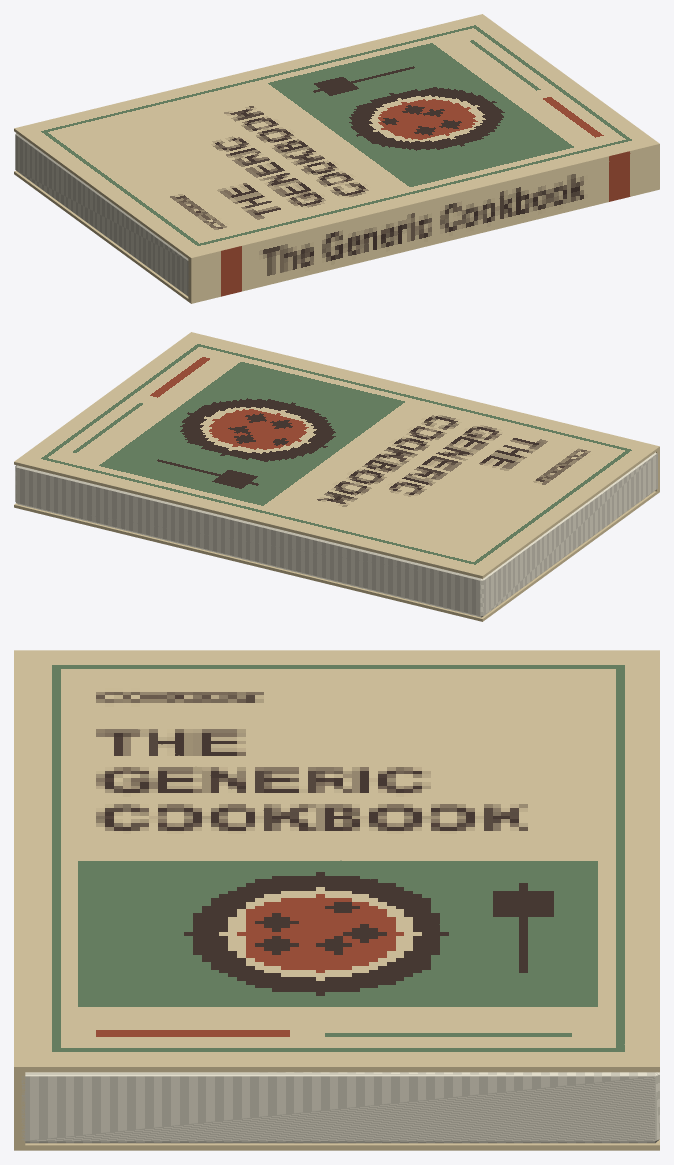
File: cookbook_useless.glb
3 renders of one model, top to bottom at view 1: azimuth 30°, elevation 25°; view 2: azimuth 150°, elevation 25°; view 3: azimuth 270°, elevation 25°, orthographic. The views are drawn at different scales.
Visible parts, largest first — view 1: block_front, block_spine, block_pages, block_back; view 2: block_front, block_pages, block_back, block_spine; view 3: block_front, block_pages, block_back, block_spine.
Boxes of the visible parts, <box> form: block_front: <box>14,14,656,259</box>; block_spine: <box>188,141,659,303</box>; block_pages: <box>15,133,189,296</box>; block_back: <box>14,171,190,302</box>; block_front: <box>14,332,659,578</box>; block_pages: <box>15,452,657,617</box>; block_back: <box>14,490,659,621</box>; block_spine: <box>188,332,659,492</box>; block_front: <box>16,650,659,1072</box>; block_pages: <box>21,1072,659,1143</box>; block_back: <box>17,1139,659,1150</box>; block_spine: <box>14,650,25,1150</box>.
Size of the model in its own units: 0.196 by 0.0183 by 0.1285.
1 material, 1 textured.
